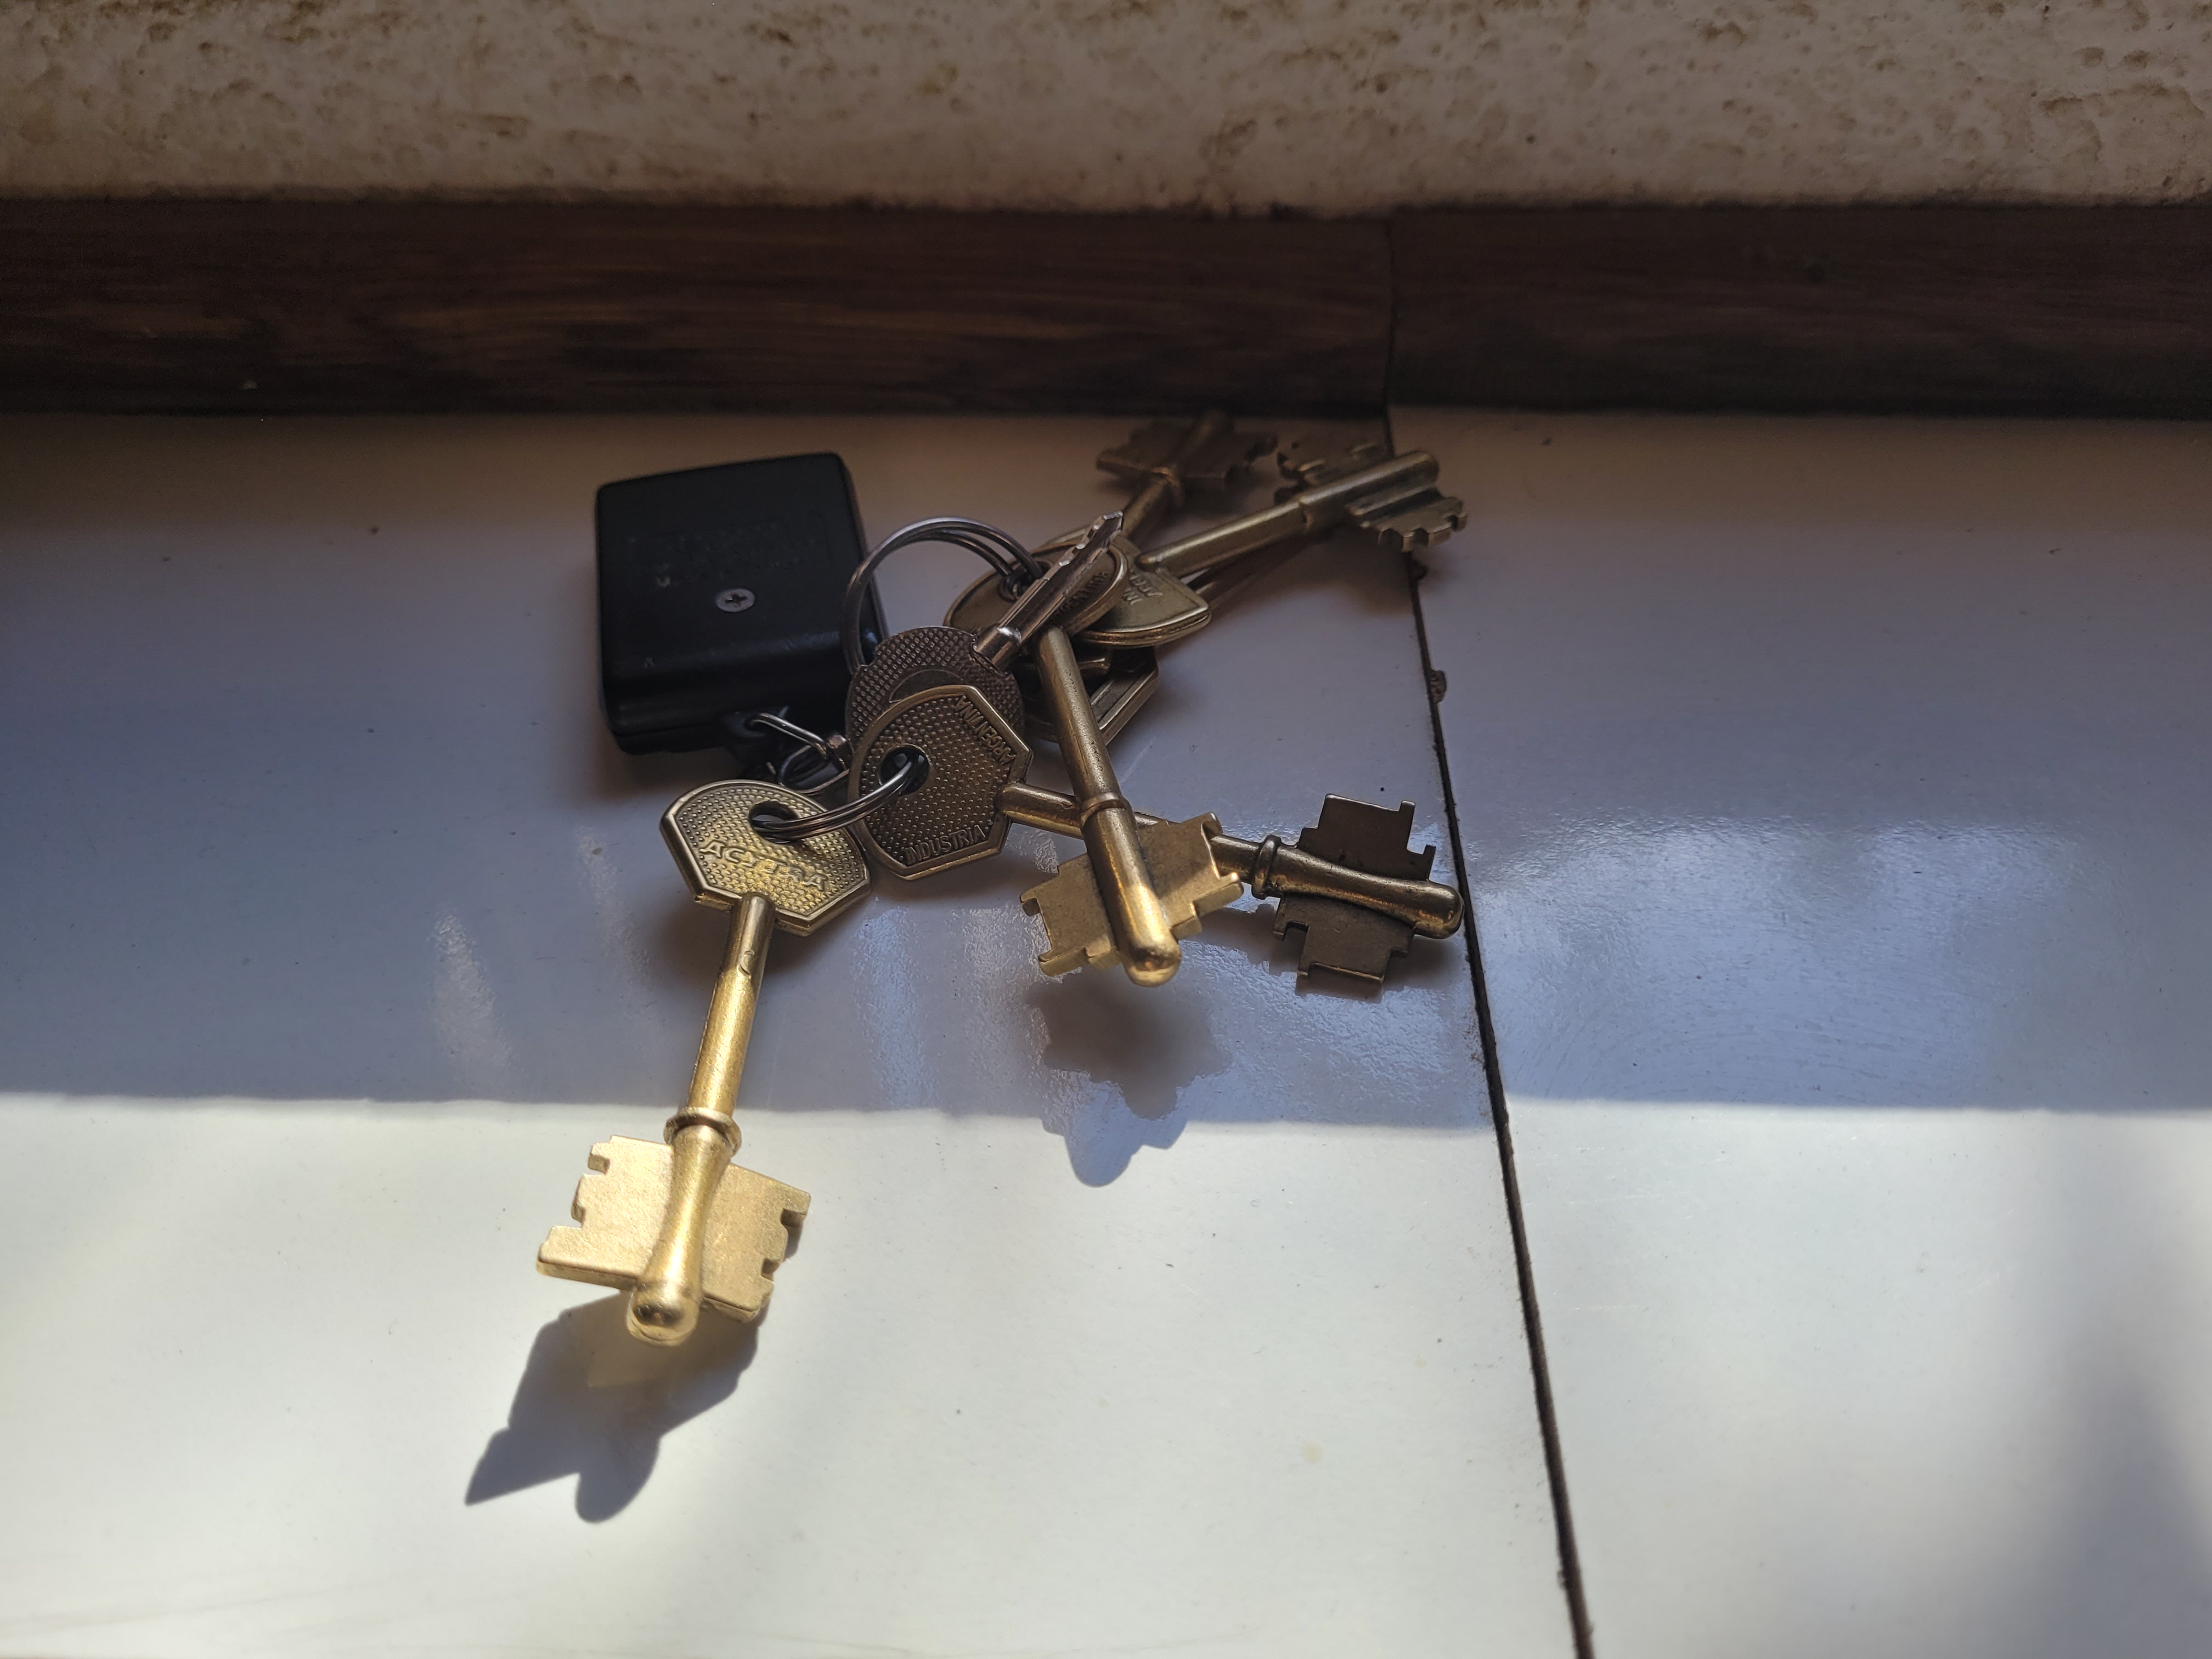llave: (512, 401, 1480, 1363)
